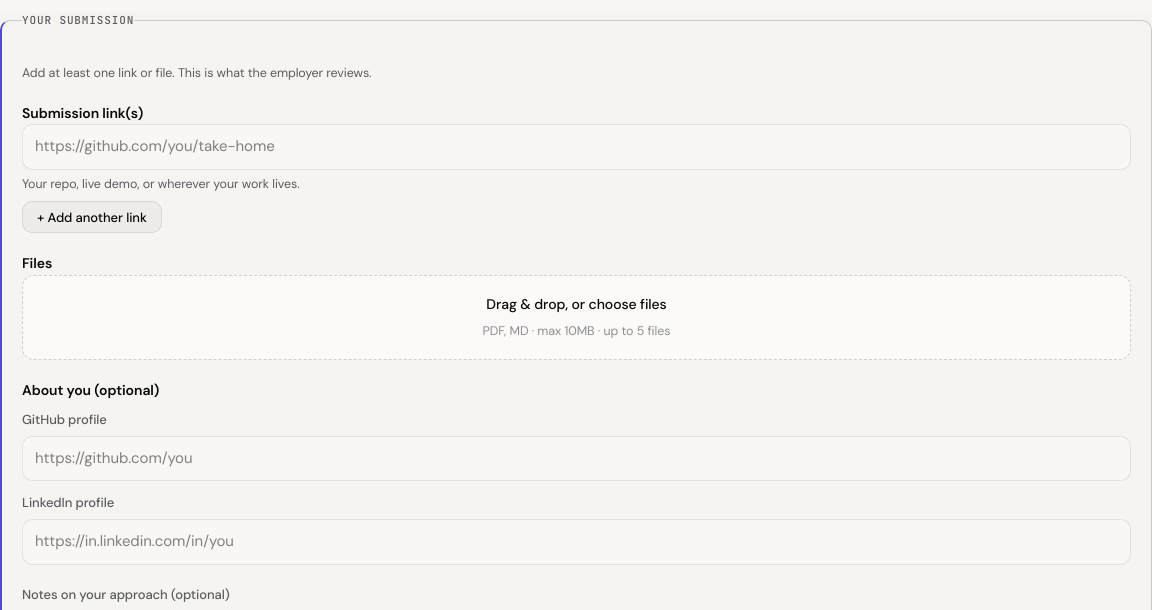
Test: AssignmentSection — profile + notes › a github repo URL produces a hint, never a field error
The width and height of the screenshot is (1152, 610).
Type "https://github.com/asha/take-home" into the field labelled "GitHub profile". click: (576, 459)
box: [22, 436, 1131, 481]
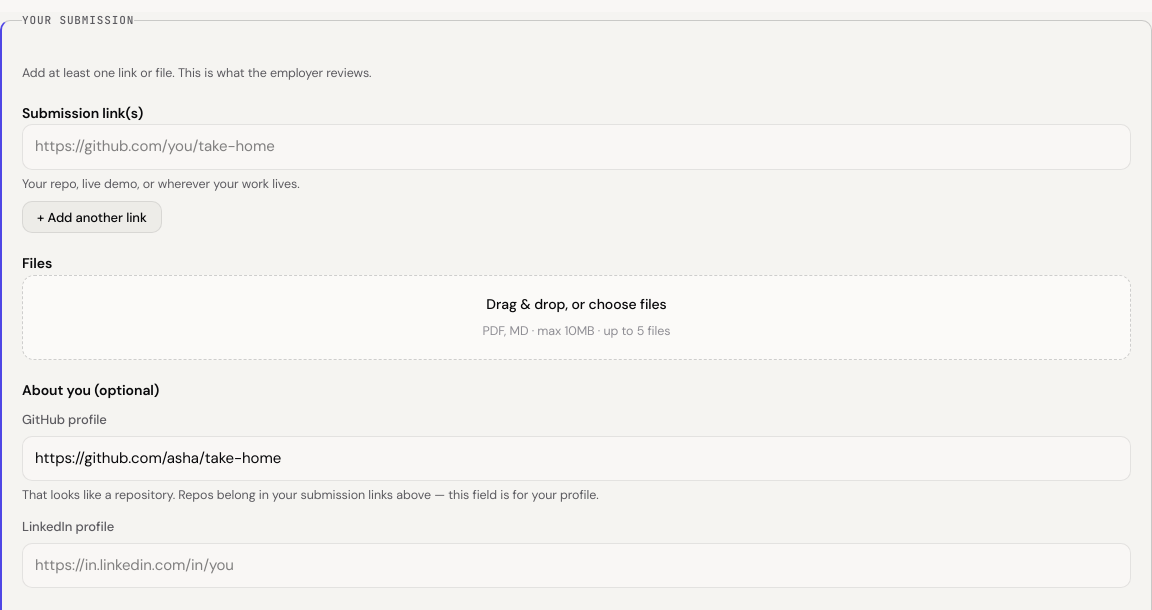
Now the text "looks like a repository" is shown, box [22, 487, 599, 503]
